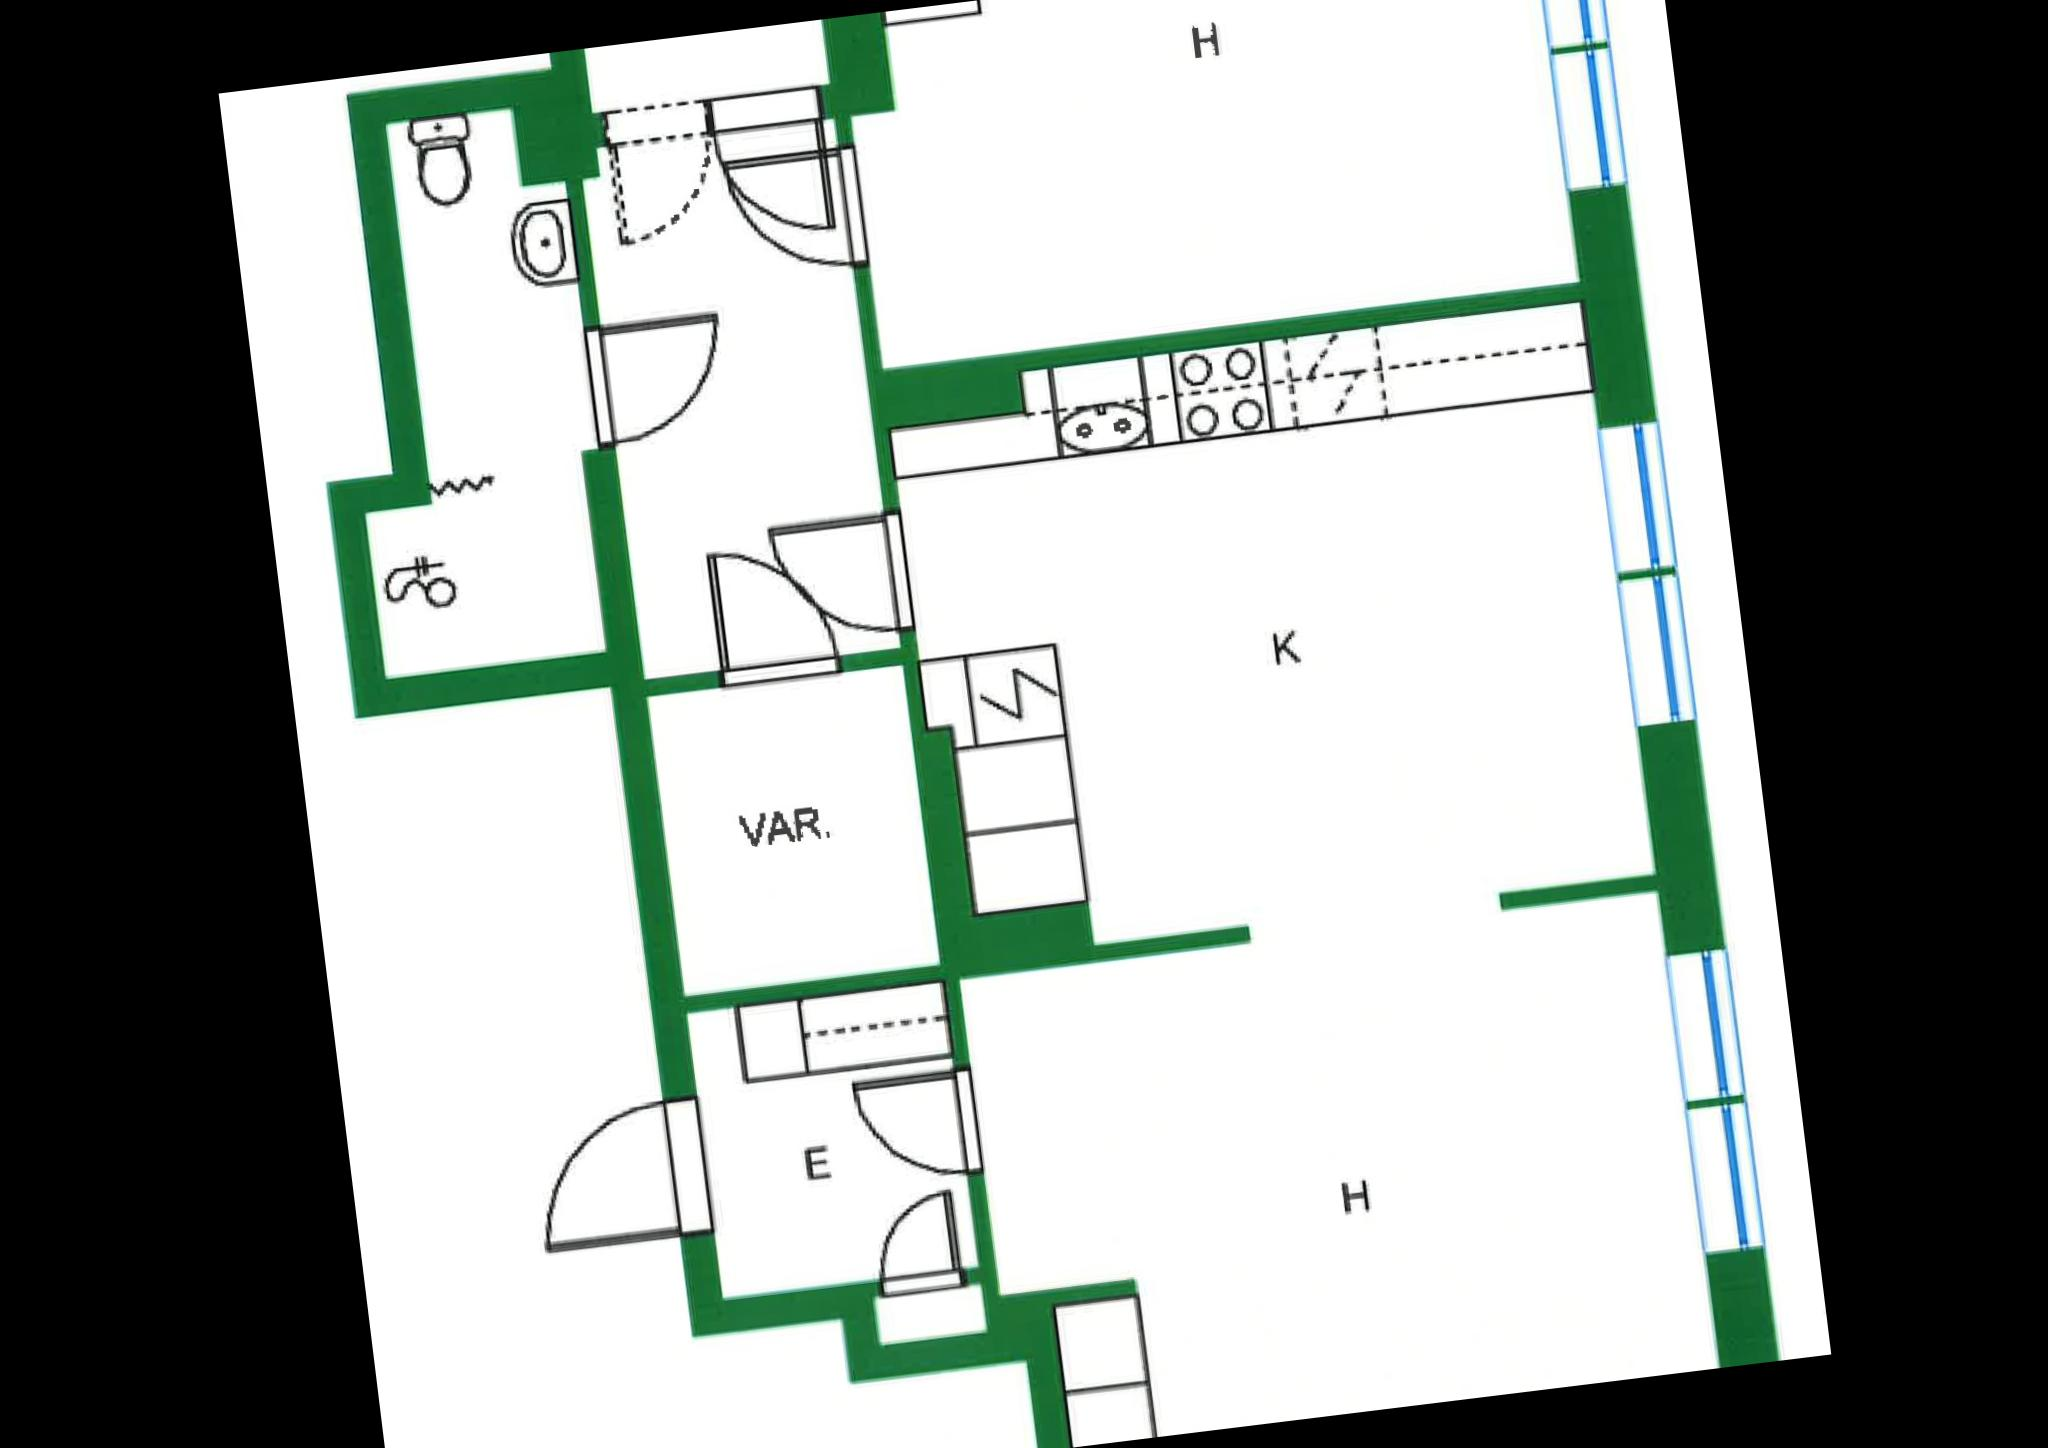door: (519, 1091, 719, 1269), (688, 538, 843, 702), (755, 506, 920, 650), (575, 302, 735, 450), (718, 139, 876, 287), (708, 80, 840, 243), (595, 99, 729, 255), (846, 1059, 993, 1194), (863, 1186, 964, 1304)
window: (1645, 929, 1753, 1113), (1581, 406, 1686, 581), (1670, 1094, 1774, 1269), (1536, 41, 1639, 205), (1606, 566, 1703, 737), (1528, 0, 1614, 55)
